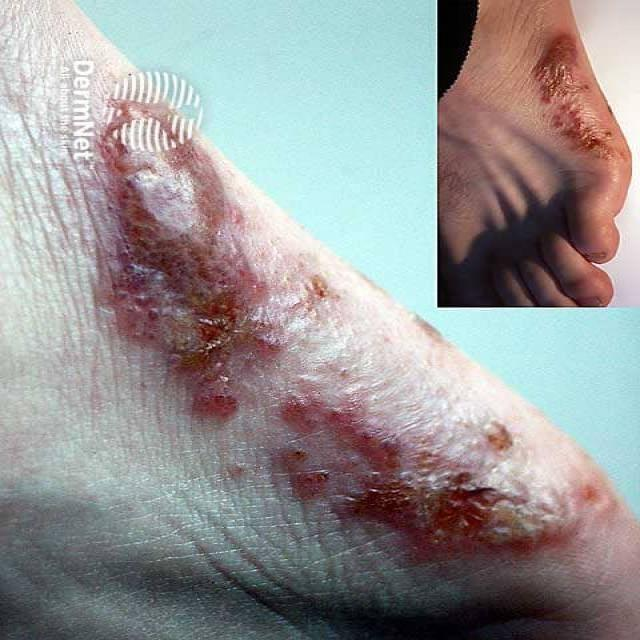Eczema: (89, 101, 572, 568), (530, 19, 623, 176)
